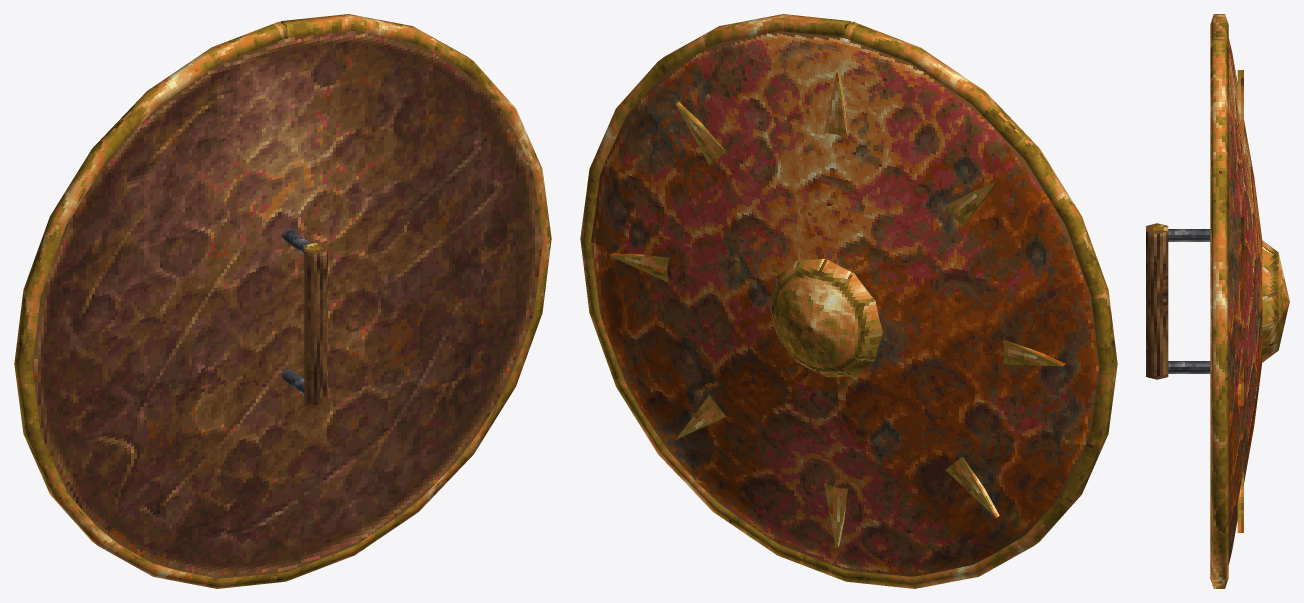
Rendered from sun_bronze.glb.
3 views of the same model, side by side, from view 1: azimuth 30°, elevation 25°; view 2: azimuth 150°, elevation 25°; view 3: azimuth 270°, elevation 25° (orthographic). The views are drawn at different scales.
Parts seen in each view (by area): view 1: sun_bronze; view 2: sun_bronze; view 3: sun_bronze.
Part boxes in pixels (x1=…): sun_bronze: x1=14, y1=14, x2=551, y2=588; sun_bronze: x1=580, y1=14, x2=1117, y2=588; sun_bronze: x1=1146, y1=14, x2=1289, y2=588.
Size of the model in its own units: 0.5386 by 0.5385 by 0.1341.
1 material, 1 textured.
